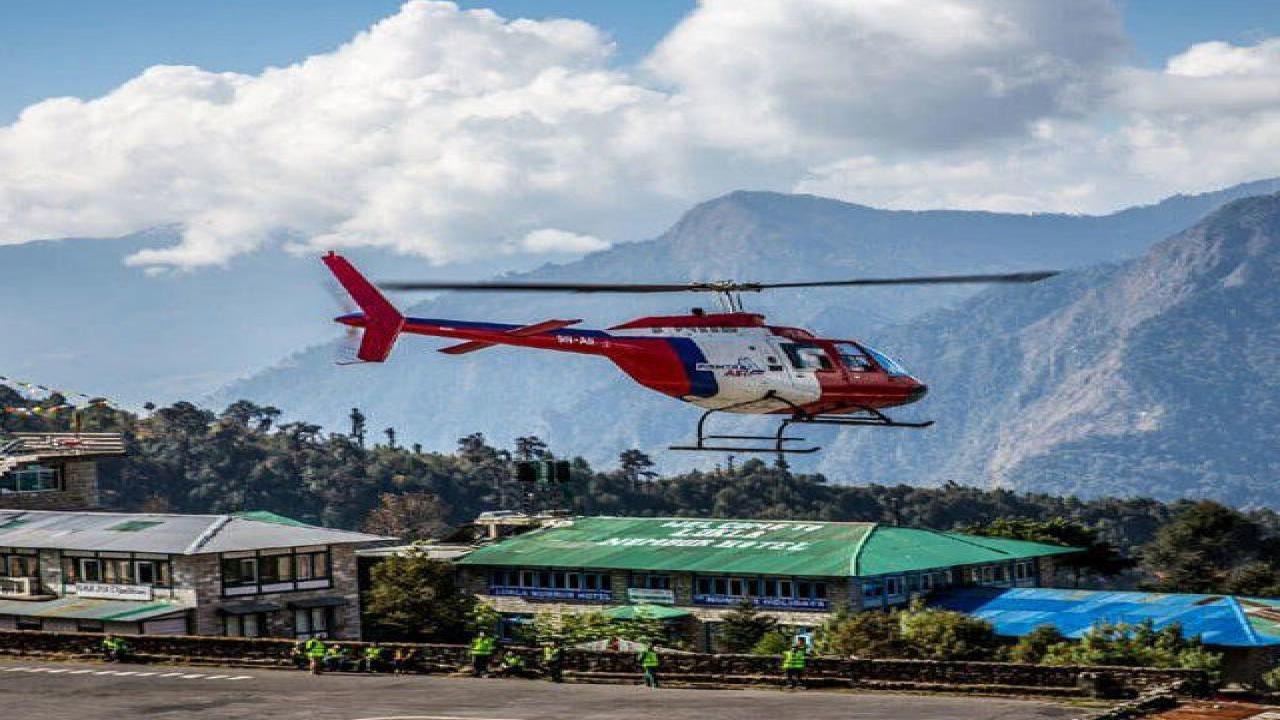Helicopter: (289, 225, 1083, 480)
